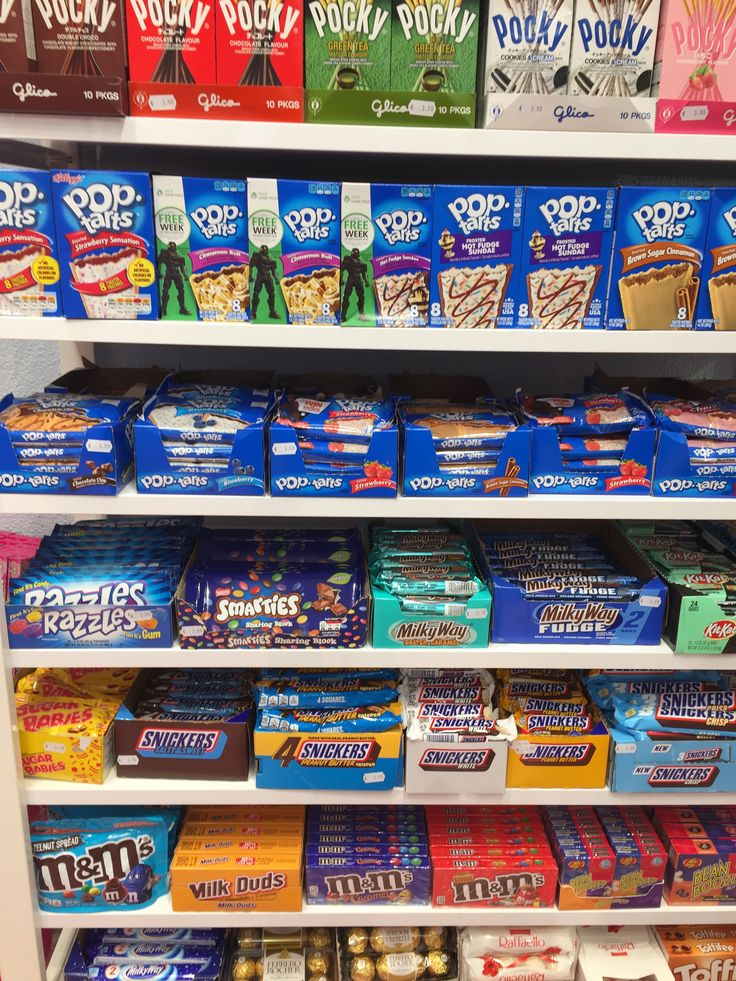Milk Duds: (170, 864, 306, 922)
Pop Tarts: (434, 184, 517, 244)
Razzles: (29, 602, 153, 650)
Snickers: (289, 727, 377, 776)
